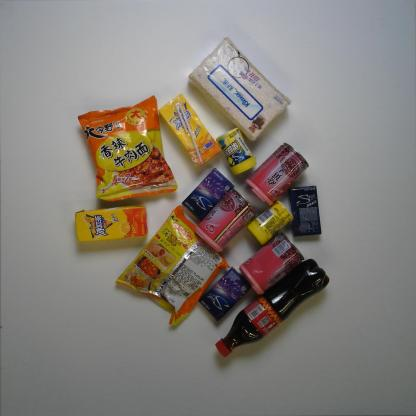Canned Food: (238, 232, 305, 295), (245, 142, 309, 207), (194, 188, 258, 252)
Drink: (215, 258, 329, 358), (158, 93, 222, 167), (74, 205, 149, 242)
Gum: (181, 167, 235, 222), (198, 266, 252, 321), (247, 200, 294, 246), (216, 127, 257, 175), (286, 185, 322, 237)
Instant Noodles: (114, 204, 230, 326), (77, 95, 178, 202)
Tissue: (188, 36, 292, 141)
